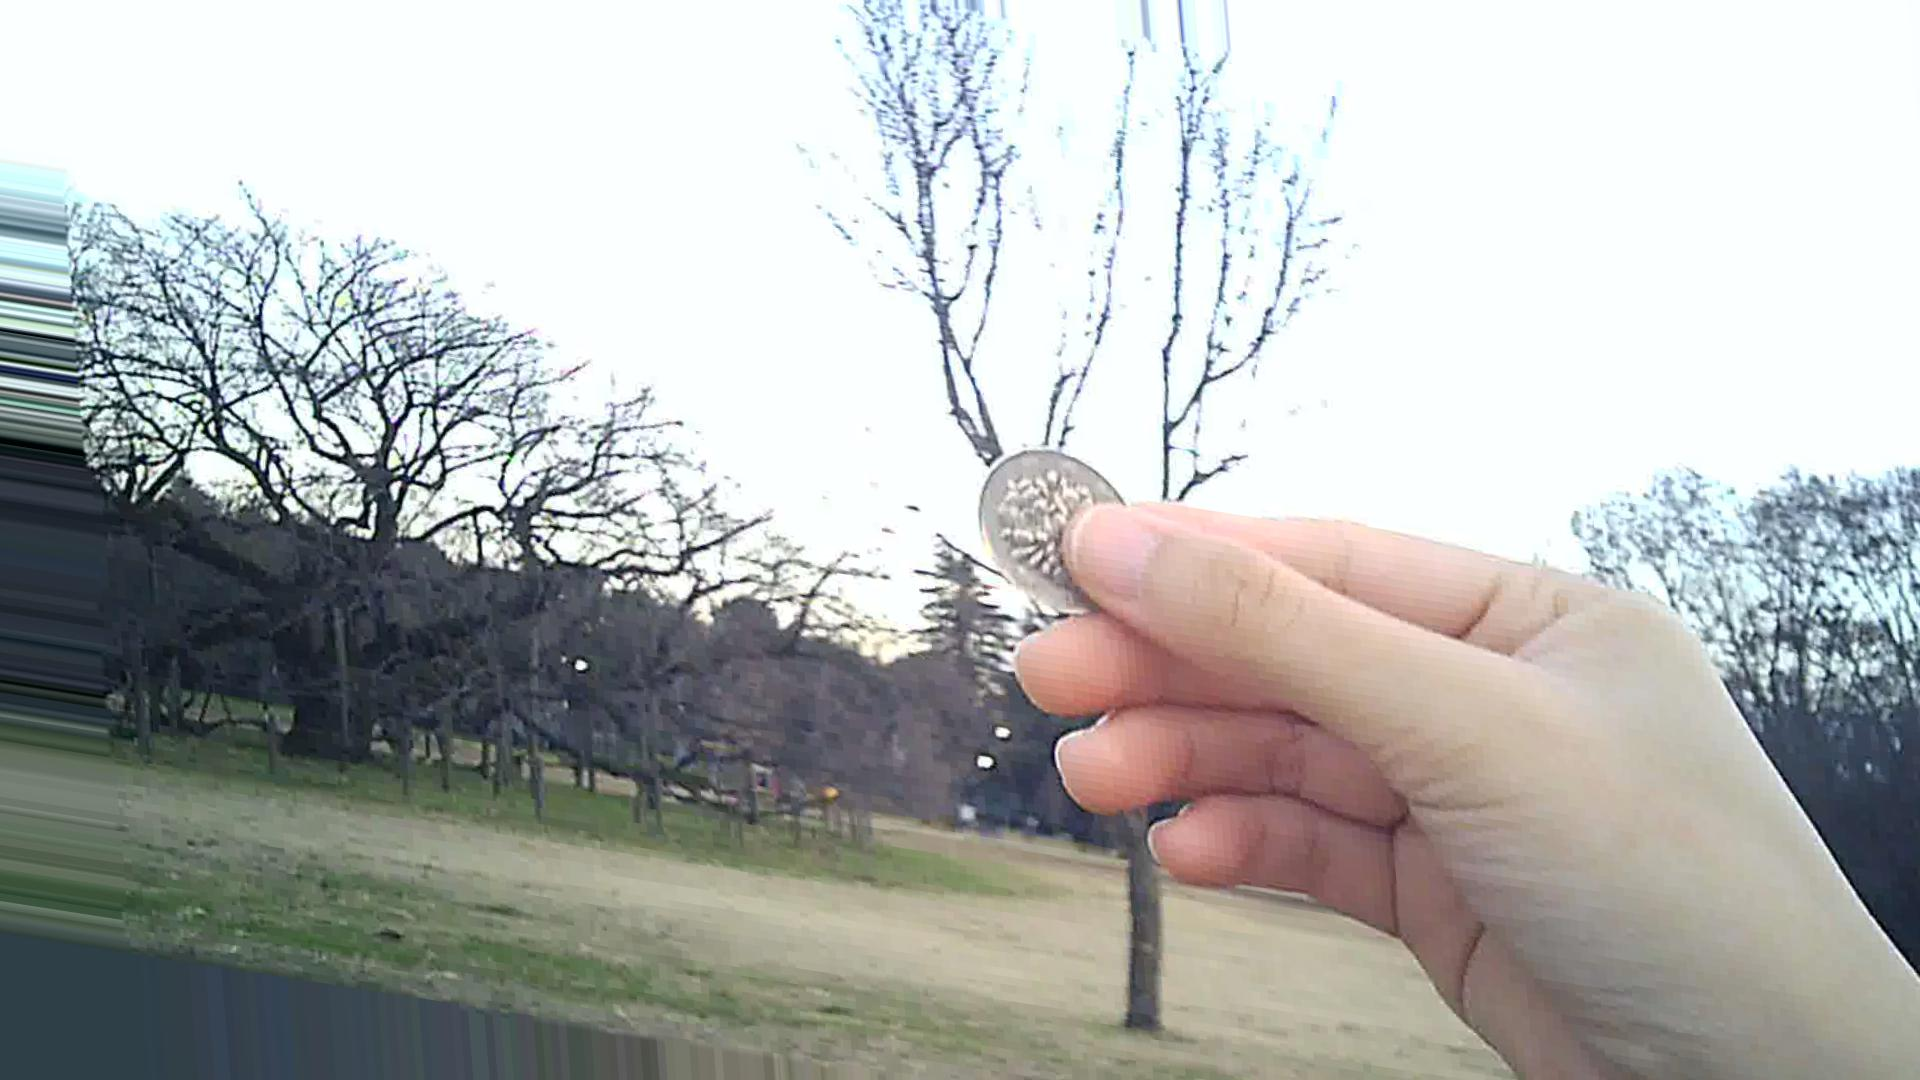100 Yen: (967, 442, 1120, 605)
